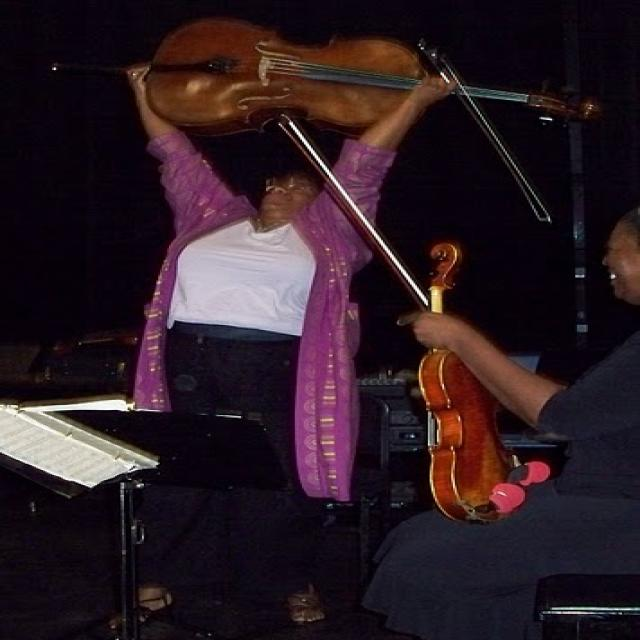cello: (133, 13, 610, 148)
violin: (381, 232, 527, 524)
